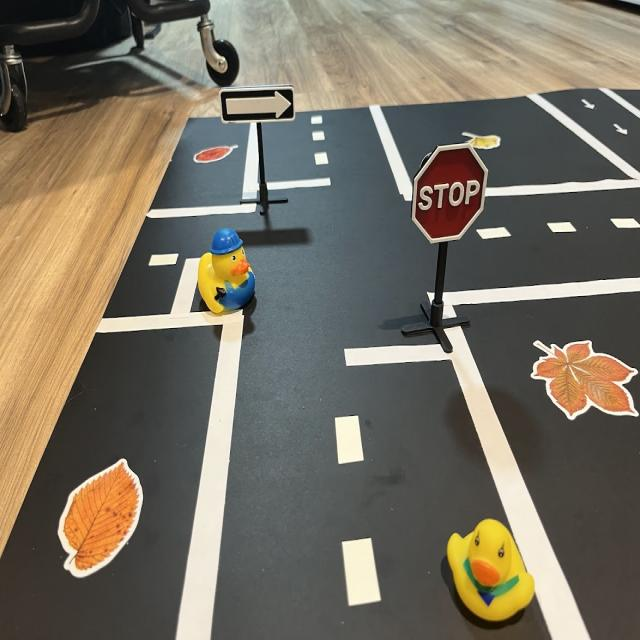duck_regular: (445, 521, 536, 632)
duck_specialty: (199, 229, 256, 314)
sign_oneway_right: (221, 85, 298, 128)
sign_stop: (413, 145, 488, 249)
